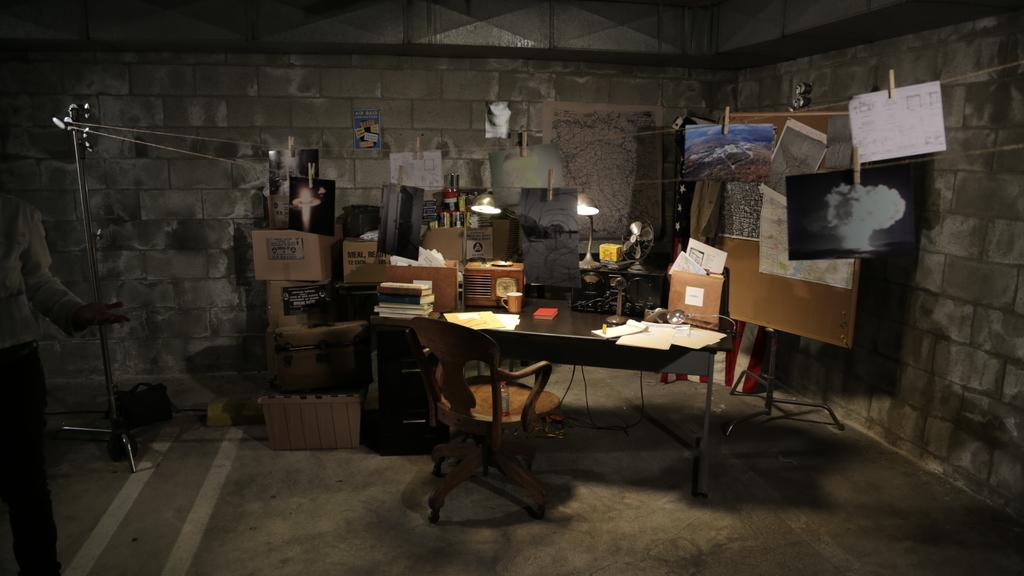Chair: (411, 318, 562, 523)
